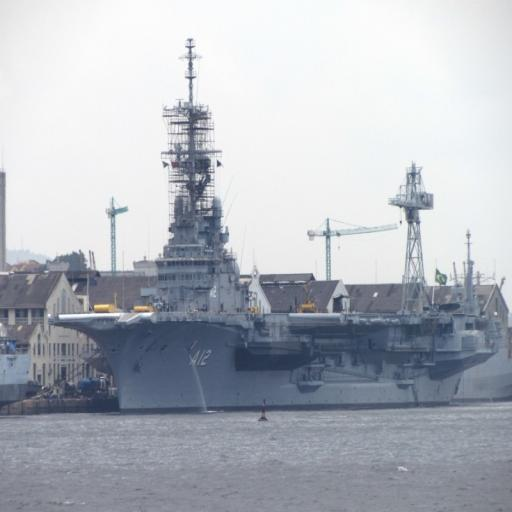Portanaves: (48, 35, 503, 418)
